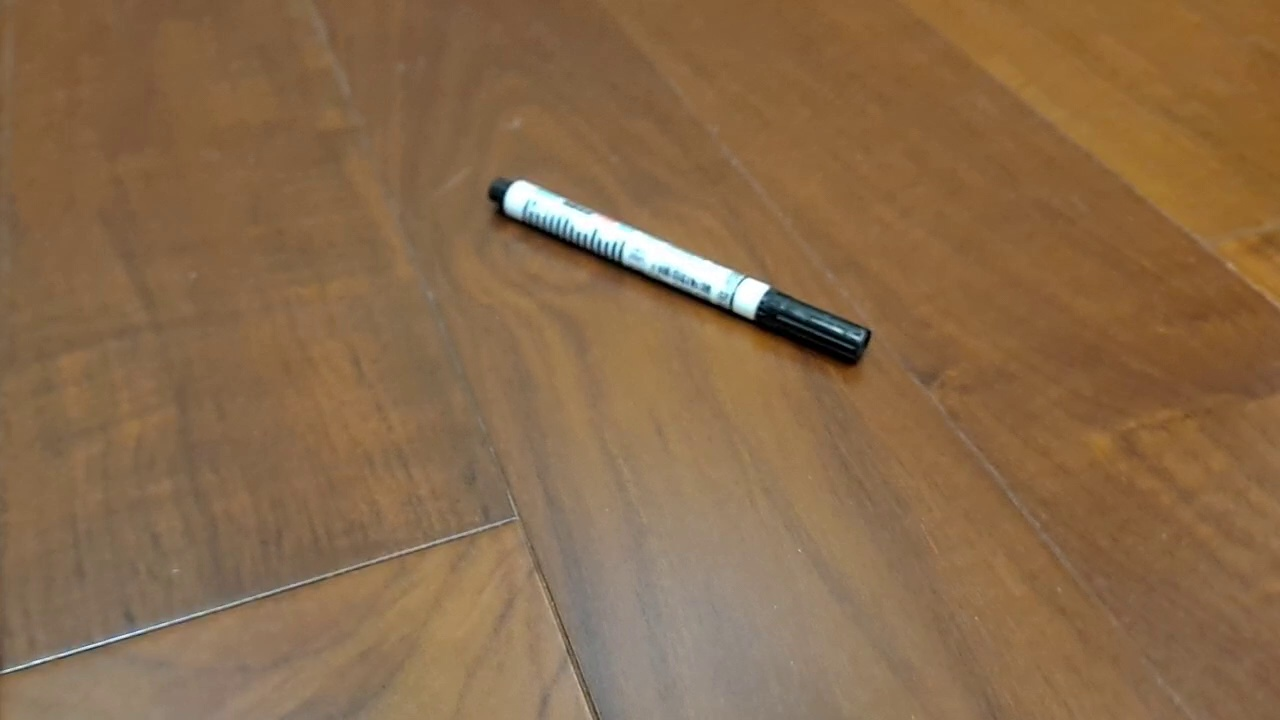pen: (486, 174, 873, 367)
